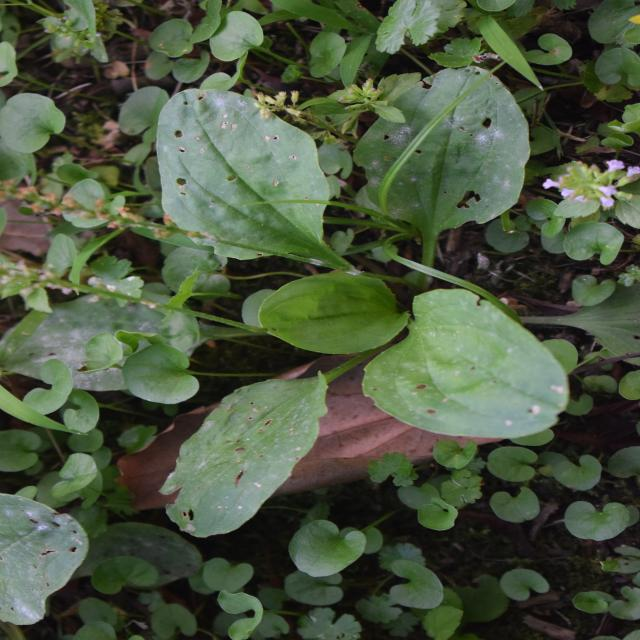plantain: (128, 44, 562, 585)
